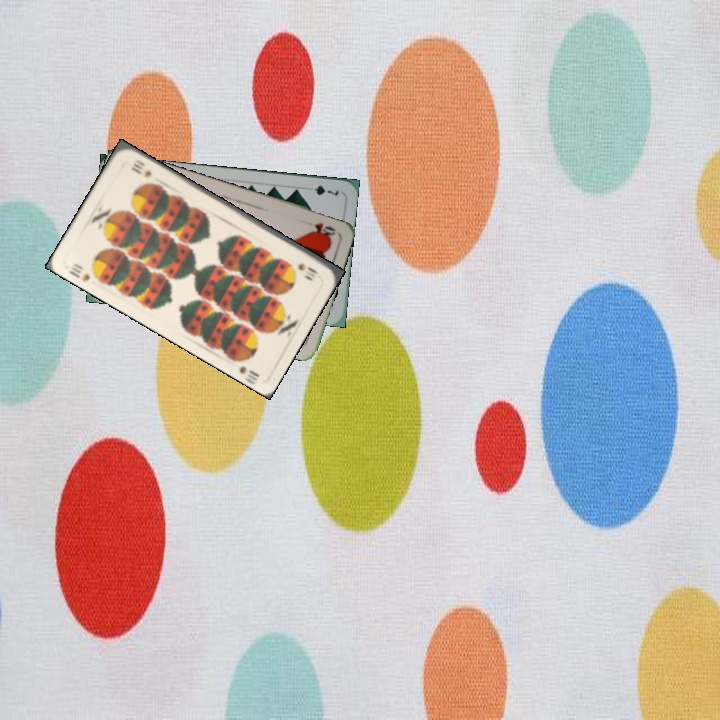G7: (301, 181, 341, 198)
HO: (311, 218, 338, 238)
S10: (65, 259, 92, 284), (293, 259, 321, 280)
